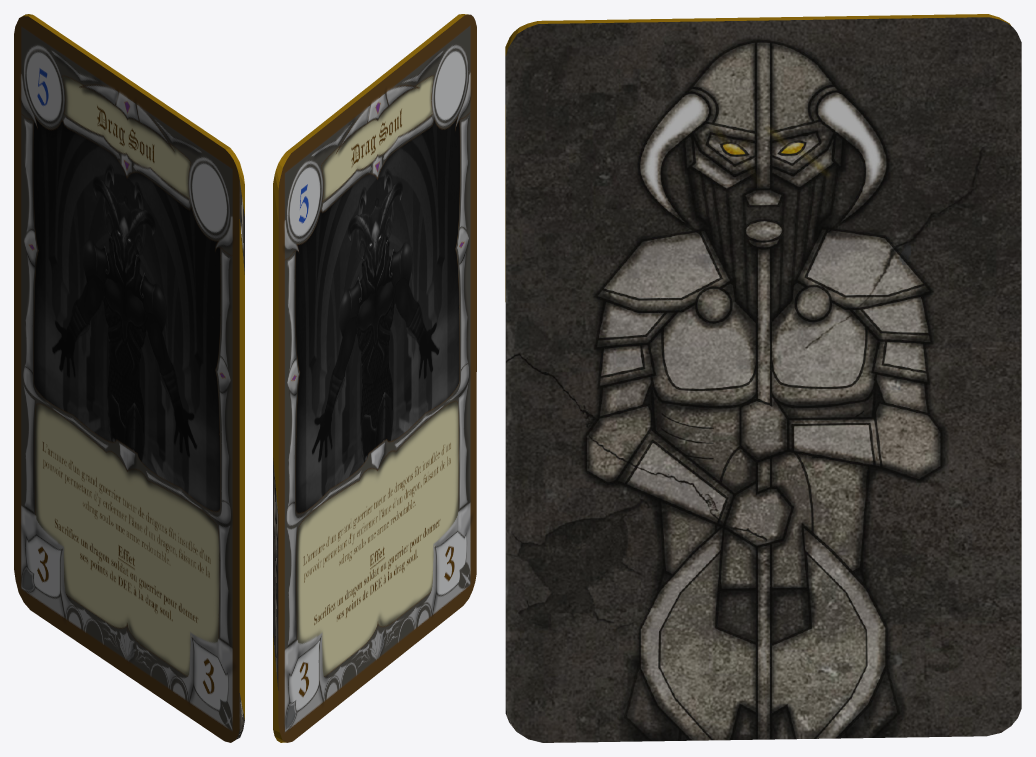
The model's file is DragSouls.fbx.
3 views of the same model, side by side, from view 1: azimuth 30°, elevation 25°; view 2: azimuth 150°, elevation 25°; view 3: azimuth 270°, elevation 25° (orthographic). The views are drawn at different scales.
Visible parts, largest first — view 1: DragSouls:pPlane3; view 2: DragSouls:pPlane3; view 3: DragSouls:pPlane3.
Part boxes in pixels (x1,y1,x2,y2): DragSouls:pPlane3: (14,14,244,742); DragSouls:pPlane3: (273,14,476,742); DragSouls:pPlane3: (505,14,1021,742).
Bounding box in the file's own units: 0.1625 × 4.99 × 3.24.
Materials: 3 (2 with a texture image).
